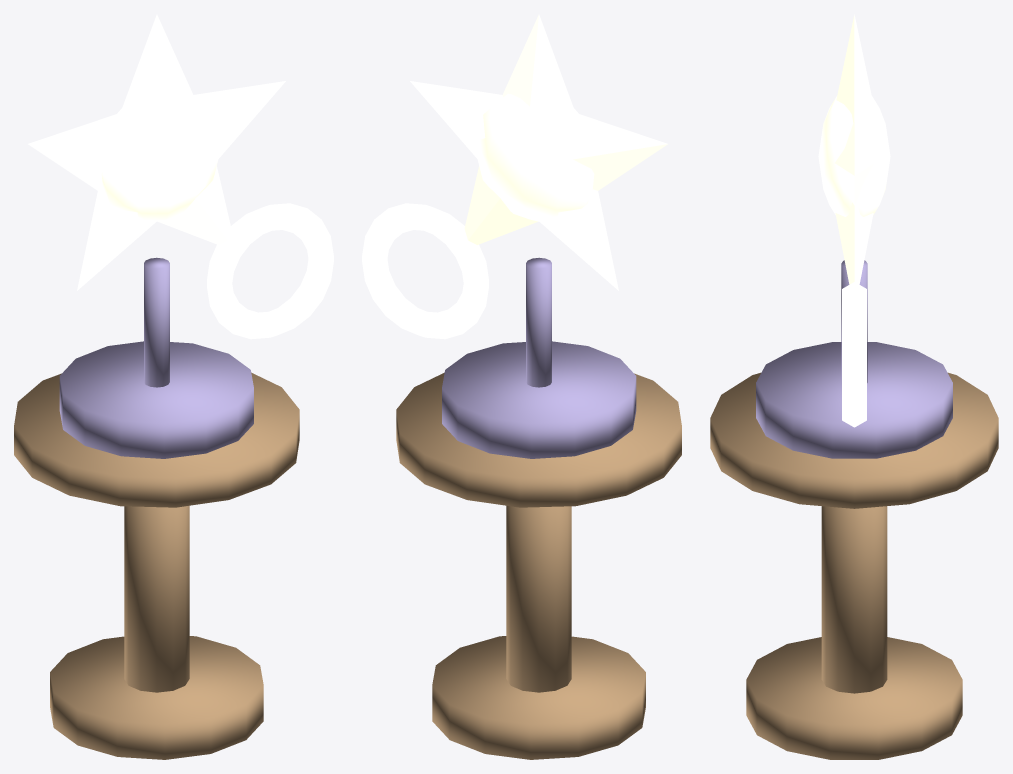
The model's file is home_sv_nightlight_v01.glb.
3 views of the same model, side by side, from view 1: azimuth 30°, elevation 25°; view 2: azimuth 150°, elevation 25°; view 3: azimuth 270°, elevation 25° (orthographic).
Visible parts, largest first — view 1: home_sv_nightlight_v01; view 2: home_sv_nightlight_v01; view 3: home_sv_nightlight_v01.
Boxes of the visible parts, x1,y1,x2,y2 form: home_sv_nightlight_v01: (14, 14, 333, 759); home_sv_nightlight_v01: (362, 14, 681, 759); home_sv_nightlight_v01: (710, 14, 998, 759).
Bounding box in the file's own units: 0.5403 × 1.18 × 0.44.
